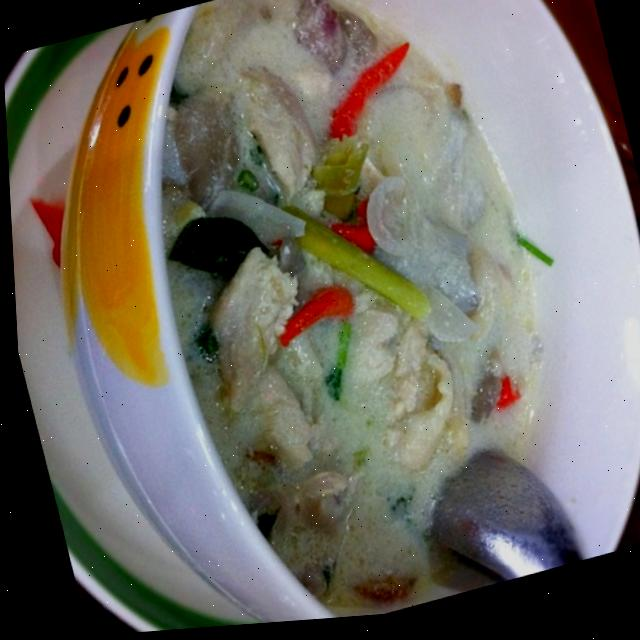汤锅炖物: (11, 0, 640, 639)
